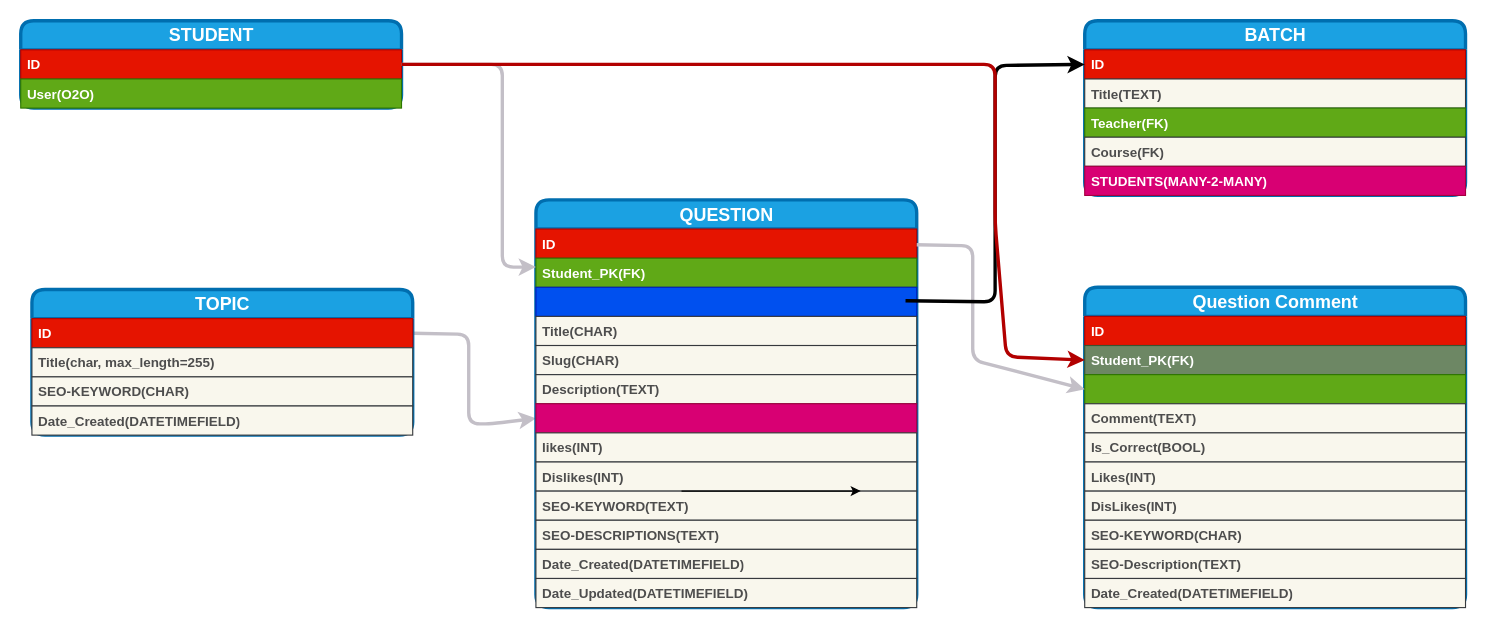
Image size: 1486x631. Some labels were removed from this diagram. Here are the shapes that lost their labels. From the top down, the centre of each, then its label:
At point (726, 301): "Batch_Pk(FK)".
At point (1275, 389): "Question(FK)".
At point (726, 418): "Topics(MANY2MANY)".
